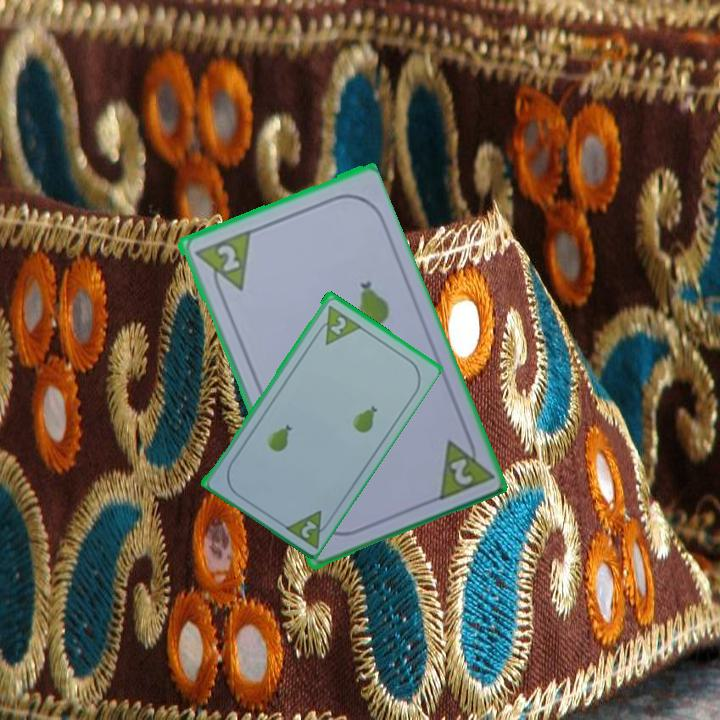2p: (432, 427, 494, 504), (311, 301, 363, 347), (213, 240, 242, 274), (297, 516, 320, 541)
